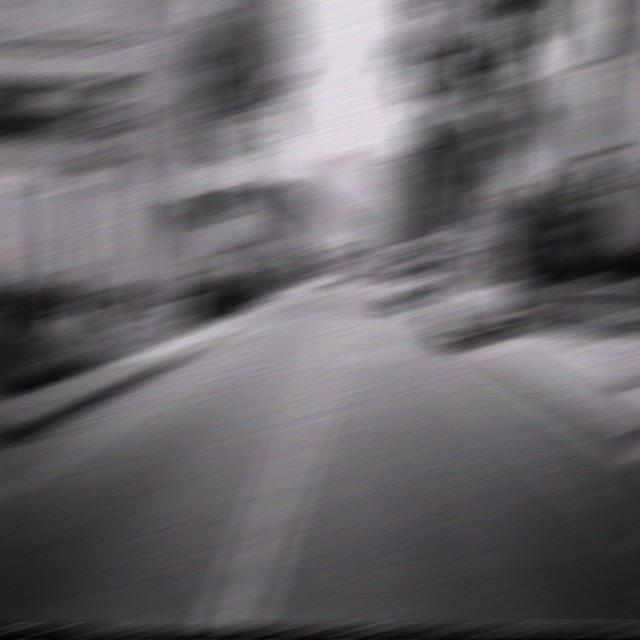pedestrianCrossing: (484, 176, 524, 220)
